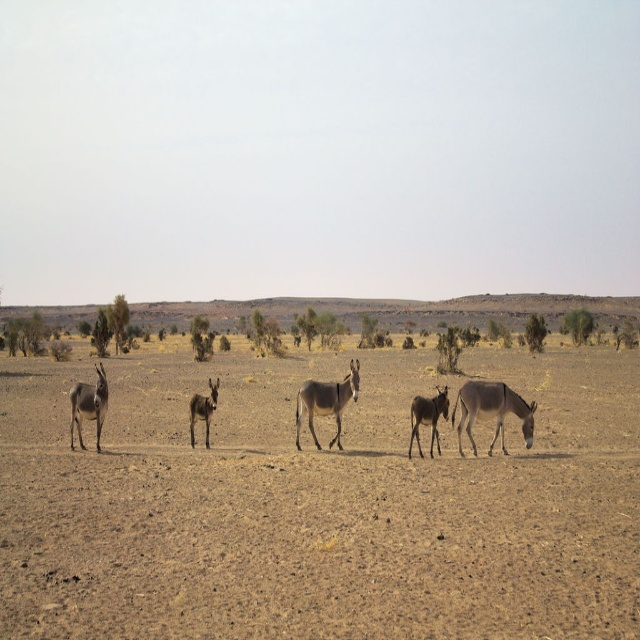Mule: (452, 380, 544, 454), (296, 357, 362, 452), (68, 362, 108, 452), (406, 384, 452, 461), (190, 377, 219, 448)
